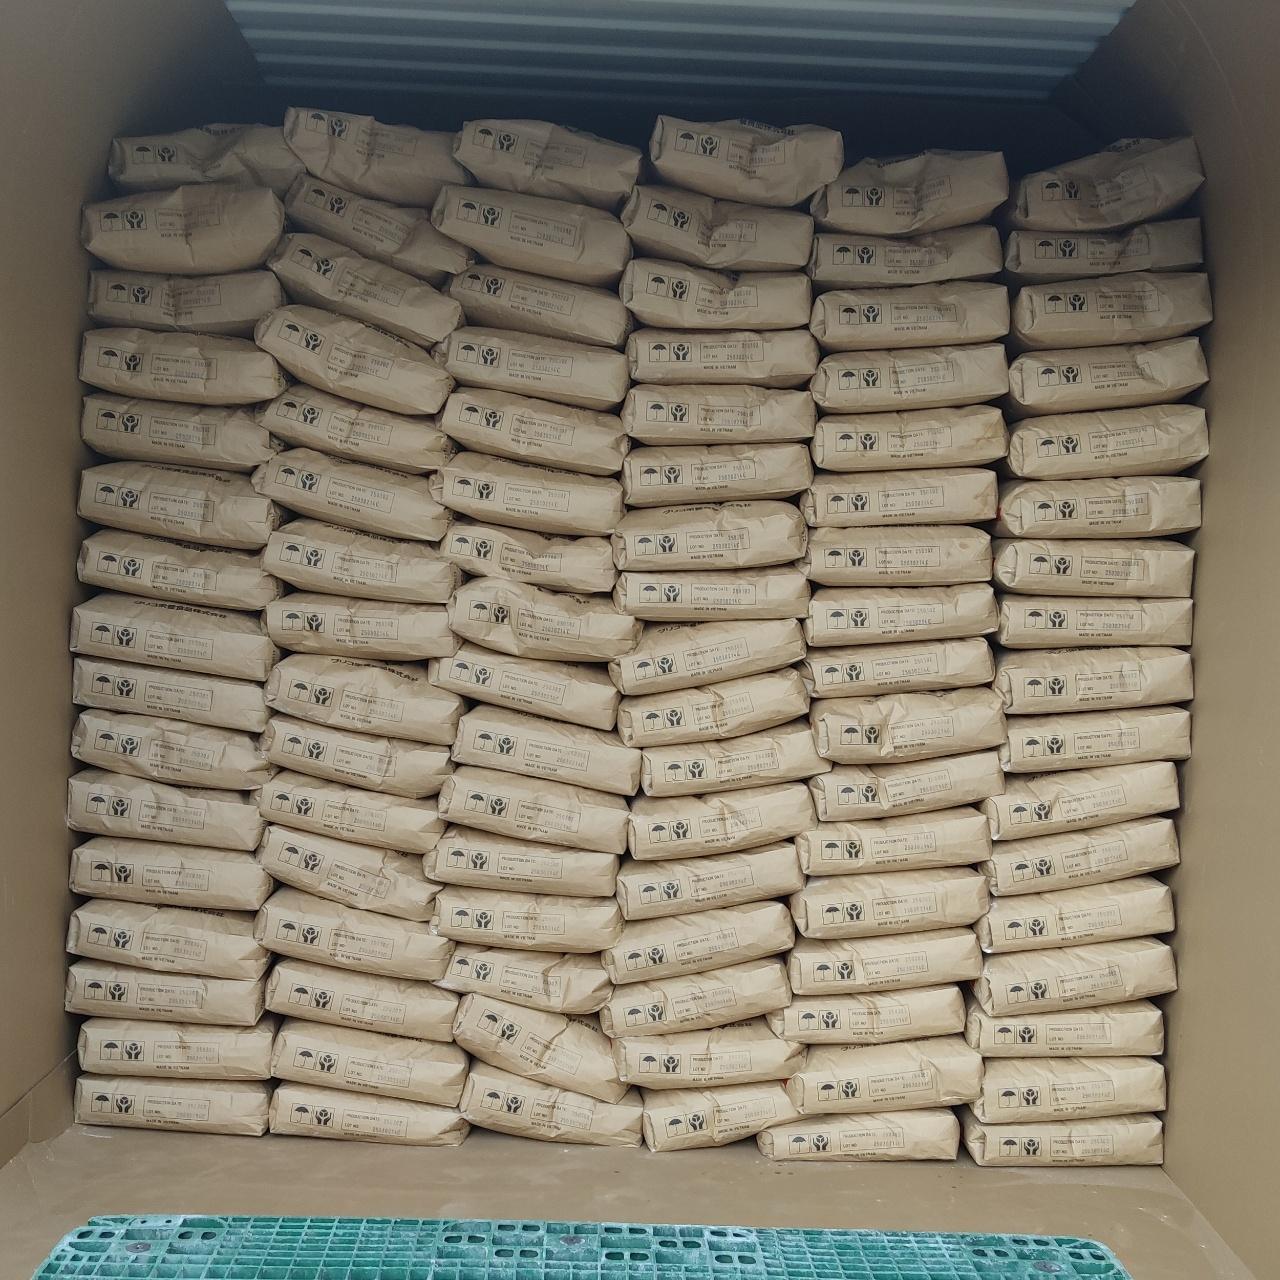sack: (256, 304, 452, 414), (270, 234, 462, 344), (432, 186, 630, 284), (286, 174, 470, 278), (998, 138, 1202, 230), (254, 448, 452, 540), (80, 462, 288, 548), (284, 110, 470, 206), (258, 888, 452, 980), (72, 592, 278, 678), (82, 184, 284, 270), (650, 116, 842, 206), (258, 382, 454, 470), (266, 656, 464, 742), (456, 996, 622, 1096), (258, 826, 438, 918), (262, 518, 462, 600), (454, 706, 638, 794), (454, 120, 638, 208), (440, 766, 628, 852), (438, 388, 628, 472), (622, 184, 812, 268), (78, 530, 282, 608), (430, 642, 618, 726), (274, 1020, 466, 1102), (430, 452, 622, 534), (432, 326, 628, 406), (810, 152, 1006, 232), (262, 714, 452, 796), (446, 262, 630, 346), (82, 392, 280, 470), (72, 712, 274, 788), (974, 938, 1174, 1014), (1006, 338, 1206, 414), (786, 1036, 980, 1114), (68, 768, 262, 846), (254, 772, 442, 852), (604, 902, 792, 982), (450, 580, 638, 660), (980, 818, 1176, 894), (980, 762, 1176, 838), (268, 958, 454, 1038), (80, 328, 286, 400), (600, 958, 790, 1036), (1006, 404, 1206, 478), (1010, 274, 1210, 348), (68, 900, 268, 974), (610, 620, 806, 694), (462, 1060, 638, 1142), (72, 836, 272, 908), (74, 656, 268, 730), (616, 842, 802, 918), (976, 878, 1172, 950), (616, 670, 806, 744), (640, 720, 828, 794), (810, 688, 1004, 758), (810, 750, 1002, 820), (812, 344, 1006, 412), (796, 806, 990, 874), (424, 826, 618, 894), (790, 868, 988, 934), (1002, 218, 1200, 284), (628, 784, 814, 854), (810, 282, 1006, 348), (262, 592, 458, 658), (88, 268, 284, 334), (620, 258, 808, 326), (110, 124, 302, 190), (614, 1020, 804, 1086), (612, 502, 806, 566), (814, 406, 1006, 470), (80, 1016, 278, 1078), (440, 520, 614, 590), (432, 886, 622, 950), (994, 648, 1190, 710), (1000, 706, 1188, 770), (68, 960, 262, 1022), (788, 928, 980, 990), (622, 444, 812, 506), (272, 1082, 468, 1142), (996, 476, 1198, 534), (76, 1074, 270, 1134), (440, 944, 610, 1012), (806, 584, 996, 644), (972, 1058, 1162, 1118), (808, 226, 998, 286), (802, 468, 996, 526), (626, 328, 818, 386), (622, 384, 814, 442), (768, 986, 962, 1042), (800, 638, 992, 694), (962, 1110, 1160, 1164), (800, 526, 990, 582), (994, 538, 1190, 592), (966, 1000, 1162, 1054), (614, 566, 806, 620), (644, 1082, 798, 1148), (996, 596, 1190, 646), (758, 1110, 958, 1158)
